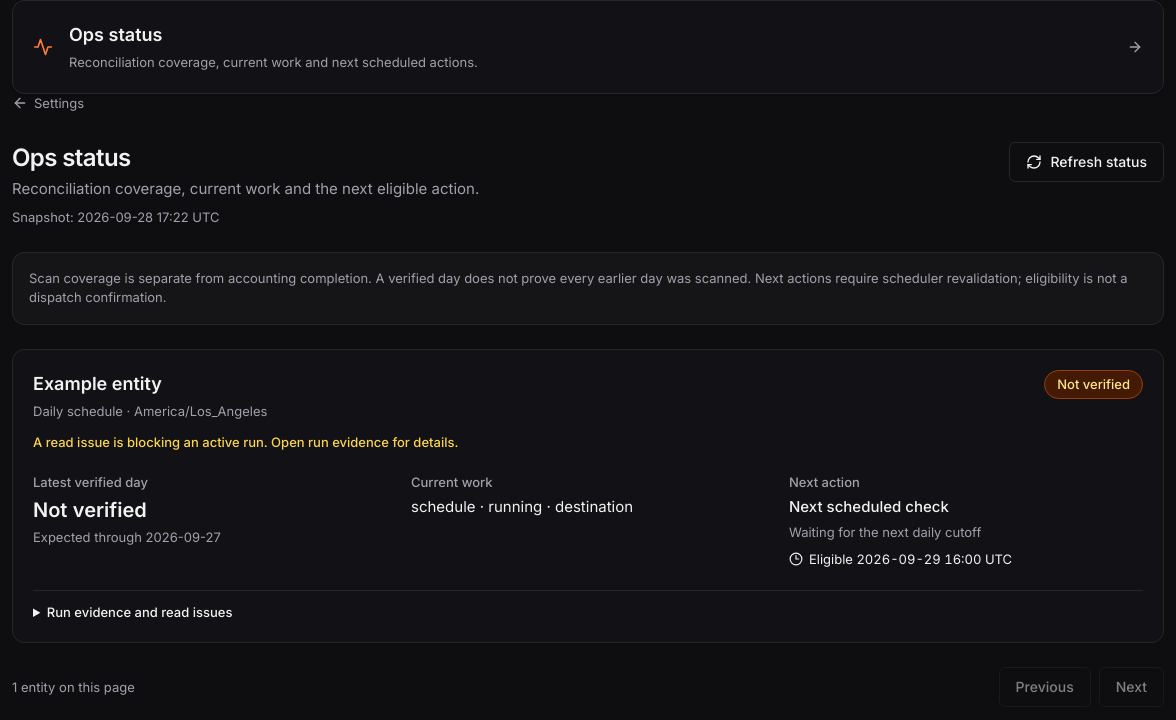
preserves unknown financial counts and blocking read evidence
Expected: the text "A read issue is blocking an active run" is shown, 33,434 -> 458,450
Step 1. Click the heading "Run evidence and read issues" → {"x": 140, "y": 612}, box 47,604 -> 232,620
(page scrolled)
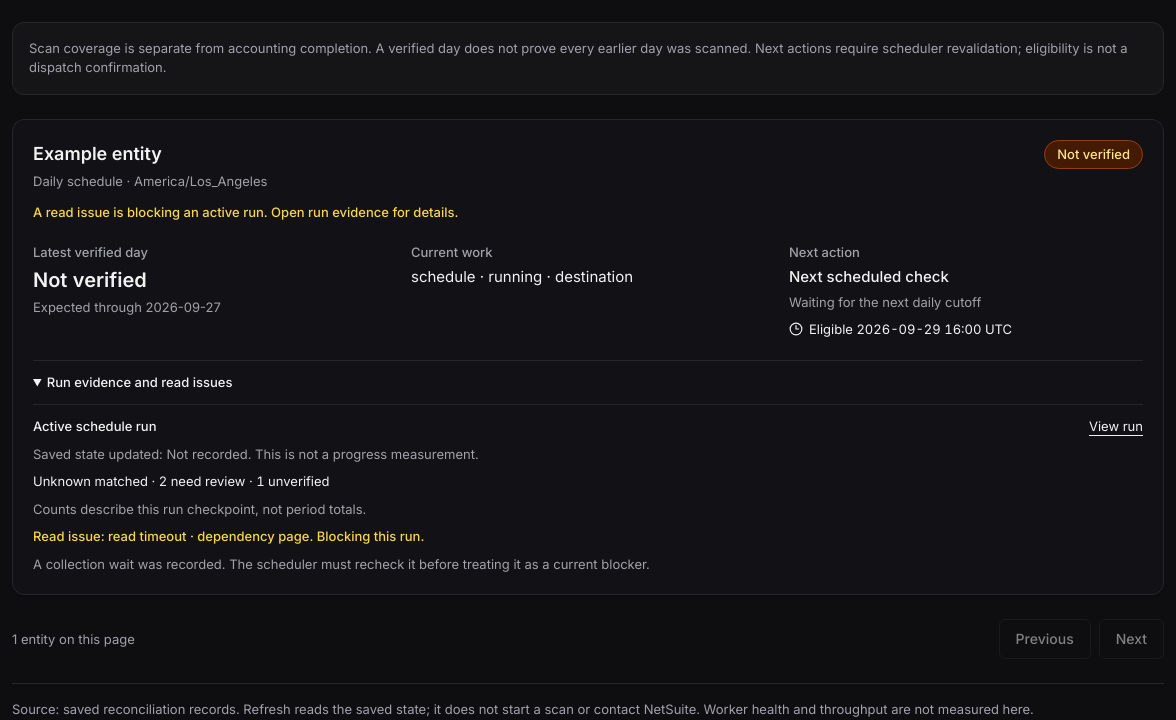
Expected: the text "Unknown matched · 2 need review · 1 unverified" is shown, 33,473 -> 330,489
Expected: the text "Counts describe this run checkpoint, not period totals." is shown, 33,501 -> 366,517
Expected: the text "A collection wait was recorded" is shown, 33,556 -> 650,572
